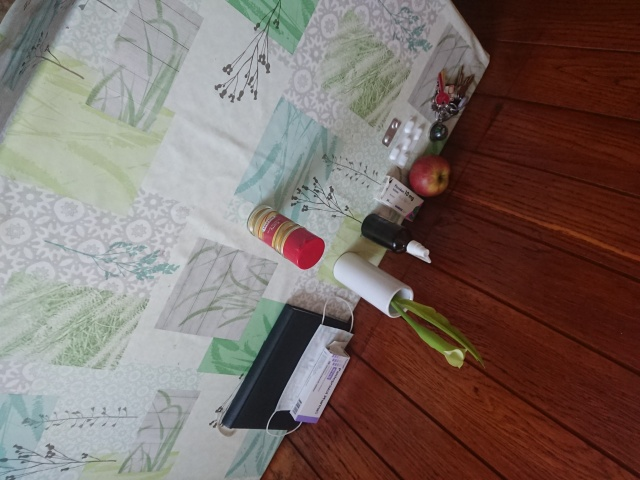Kotanyi Curry Spices Mix 70g: (245, 202, 327, 273)
